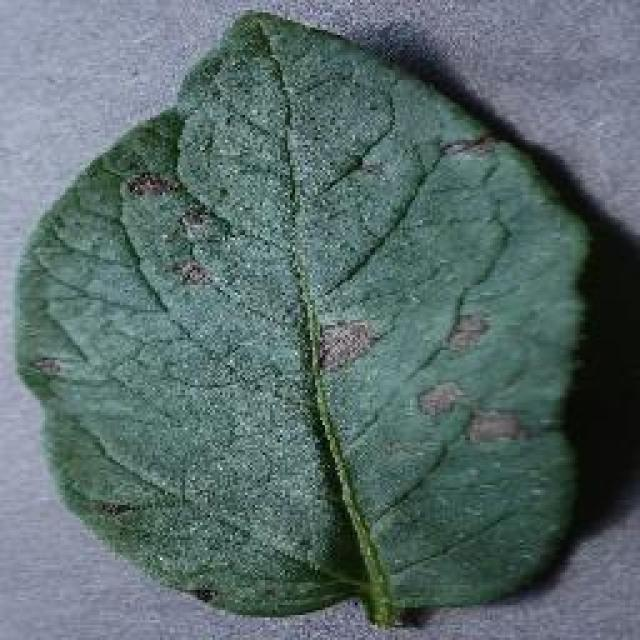early_blight: (8, 5, 598, 627)
